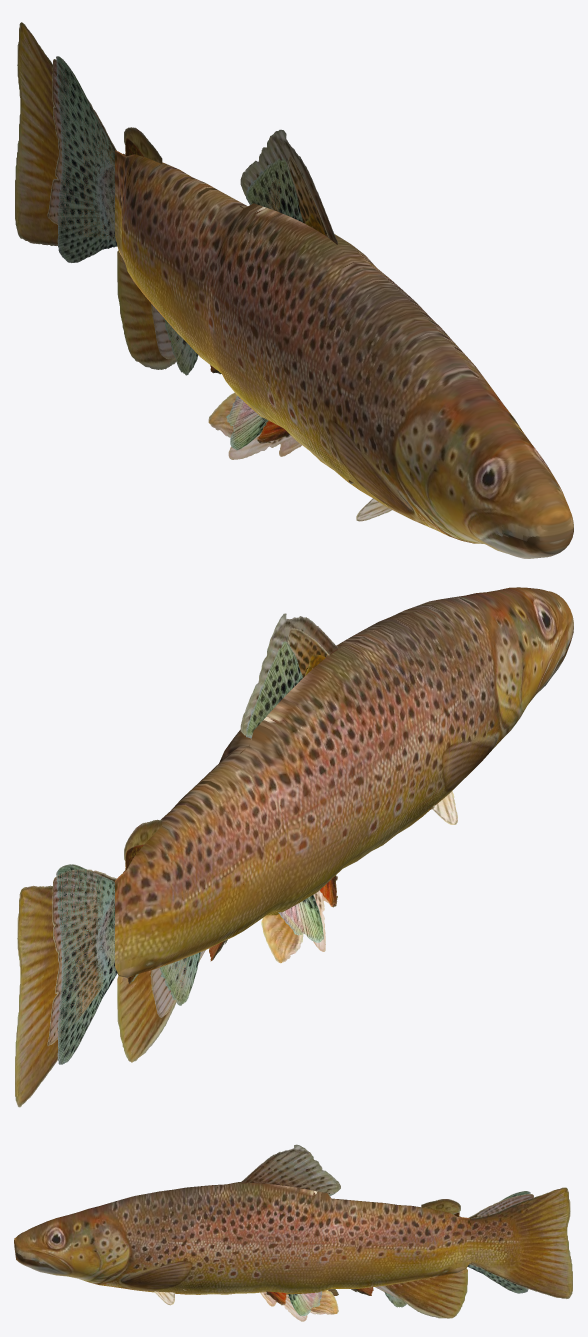
The model's file is trout_all.glb.
The picture shows the model from 3 angles, top to bottom: view 1: azimuth 30°, elevation 25°; view 2: azimuth 150°, elevation 25°; view 3: azimuth 270°, elevation 25°; orthographic projection. The views are drawn at different scales.
Visible parts, largest first — view 1: Trout_Brown, Trout_Cutthroat, Trout_Rainbow, Trout_Brook; view 2: Trout_Brown, Trout_Cutthroat, Trout_Rainbow, Trout_Brook; view 3: Trout_Brown, Trout_Cutthroat, Trout_Rainbow, Trout_Brook.
Boxes of the visible parts, box(x1,y1,x2,y2) form: Trout_Brown: box(15, 22, 573, 558); Trout_Cutthroat: box(56, 56, 302, 450); Trout_Rainbow: box(47, 59, 392, 521); Trout_Brook: box(125, 138, 353, 483); Trout_Brown: box(15, 587, 573, 1107); Trout_Cutthroat: box(56, 641, 323, 1064); Trout_Rainbow: box(47, 628, 457, 1046); Trout_Brook: box(125, 654, 434, 983); Trout_Brown: box(14, 1144, 572, 1318); Trout_Cutthroat: box(288, 1191, 530, 1315); Trout_Rainbow: box(154, 1194, 533, 1321); Trout_Brook: box(183, 1212, 459, 1304).
Bounding box in the file's own units: 0.0545 × 0.1574 × 0.4514.
8 materials, 8 textured.
